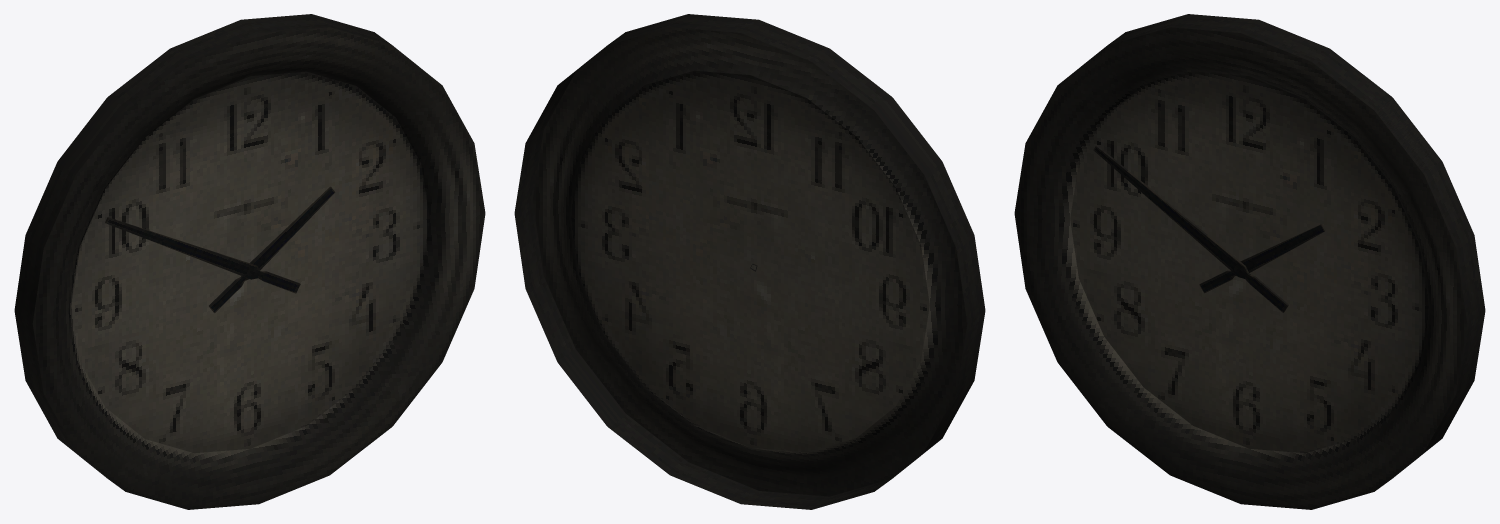
The model's file is clock_2.glb.
The picture shows the model from 3 angles, left to right: view 1: azimuth 30°, elevation 25°; view 2: azimuth 150°, elevation 25°; view 3: azimuth 330°, elevation 25°; orthographic projection.
Visible parts, largest first — view 1: clock_2, clock_2_arm_minutes, clock_2_arm_hours; view 2: clock_2; view 3: clock_2, clock_2_arm_minutes, clock_2_arm_hours.
Boxes of the visible parts, x1,y1,x2,y2 form: clock_2: (14, 14, 485, 509); clock_2_arm_minutes: (105, 217, 300, 293); clock_2_arm_hours: (209, 186, 335, 312); clock_2: (514, 14, 985, 509); clock_2: (1014, 14, 1485, 509); clock_2_arm_minutes: (1093, 145, 1288, 312); clock_2_arm_hours: (1199, 224, 1325, 293).
Bounding box in the file's own units: 0.2816 × 0.28 × 0.021.
2 materials, 2 textured.
